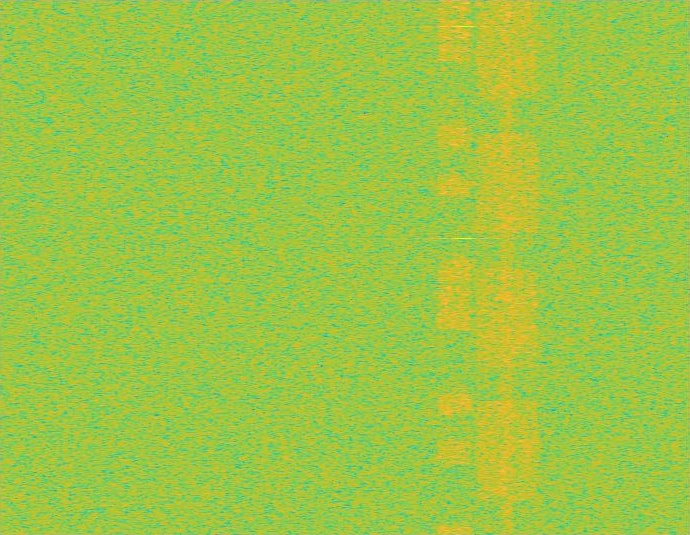5G: (473, 0, 542, 534)
DSSS: (500, 0, 515, 534)
LTE: (437, 0, 472, 534)
Radar: (457, 0, 471, 534)
